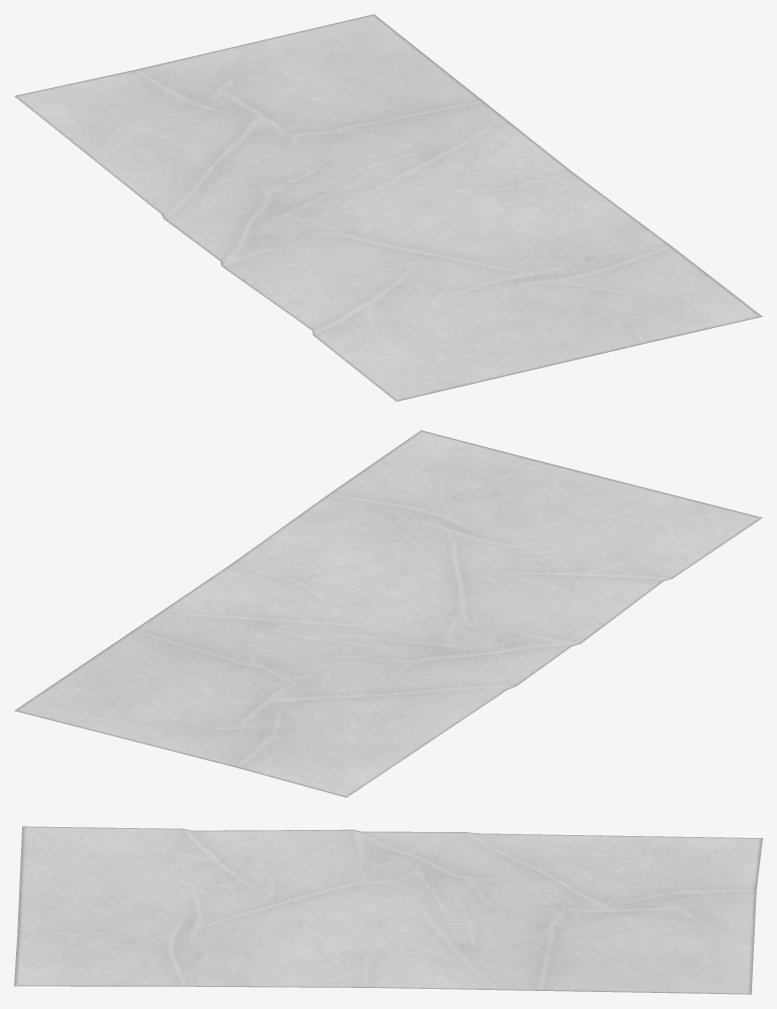
File: Pfb_Canvas_Ground_2x4__3.fbx
The picture shows the model from 3 angles, top to bottom: view 1: azimuth 30°, elevation 25°; view 2: azimuth 150°, elevation 25°; view 3: azimuth 270°, elevation 25°; orthographic projection. The views are drawn at different scales.
Parts seen in each view (by area): view 1: Mat_Canvas_Ground_Blue; view 2: Mat_Canvas_Ground_Blue; view 3: Mat_Canvas_Ground_Blue.
Part boxes in pixels (x1,y1,x2,y2): Mat_Canvas_Ground_Blue: [14, 14, 762, 401]; Mat_Canvas_Ground_Blue: [14, 430, 762, 797]; Mat_Canvas_Ground_Blue: [14, 826, 762, 994].
Size of the model in its own units: 2.09 by 0.00538 by 3.93.
1 material, 1 textured.
